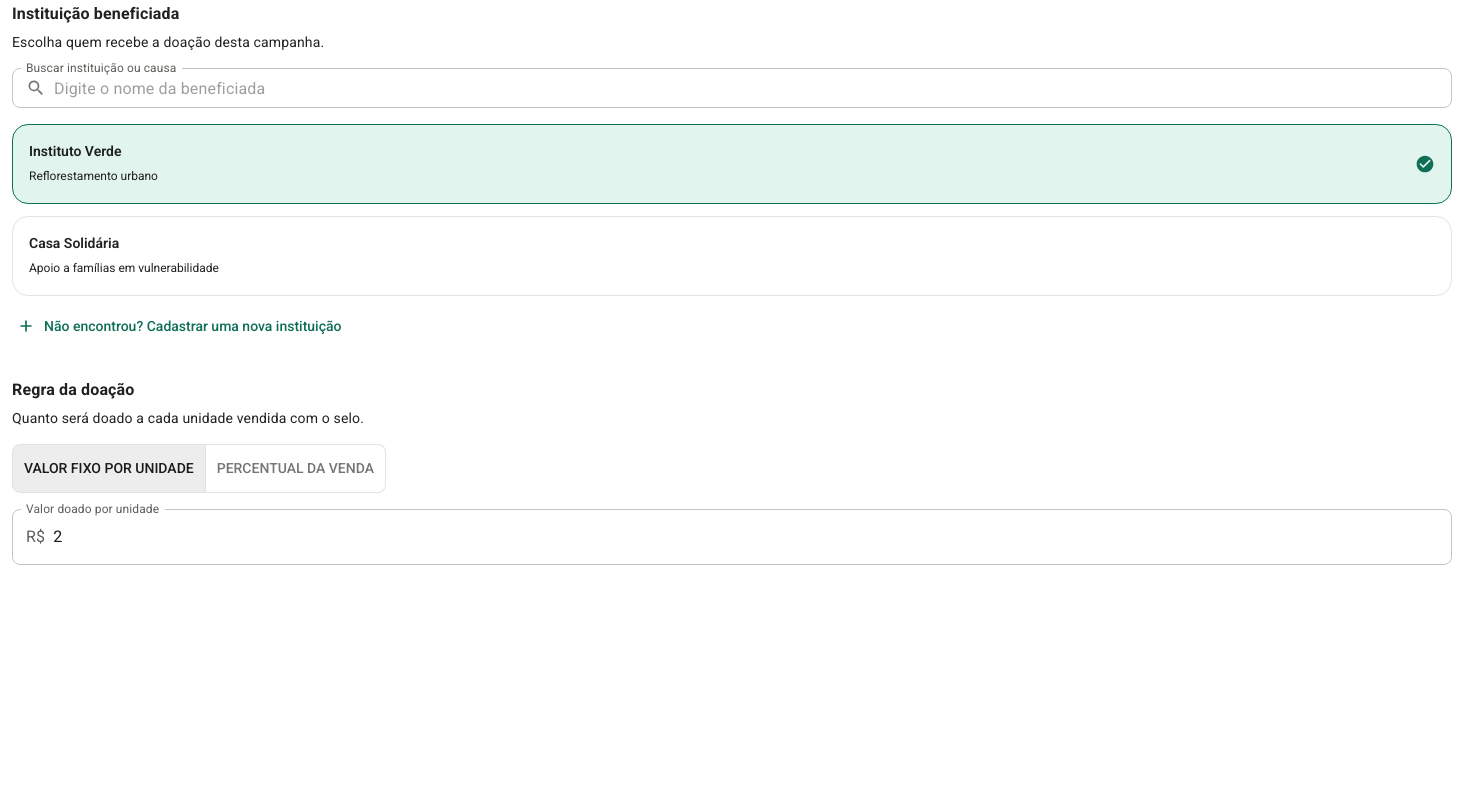
it: StepCausaRegra — mensagem de pré-cadastro indisponível (Task 7.4) › acionar o pré-cadastro mostra a mensagem de indisponibilidade e preserva a seleção (Req 8.2, 8.3)
// Abre o formulário de pré-cadastro.
Click the button "Não encontrou? Cadastrar uma nova instituição": (181, 326) [12, 308, 350, 344]
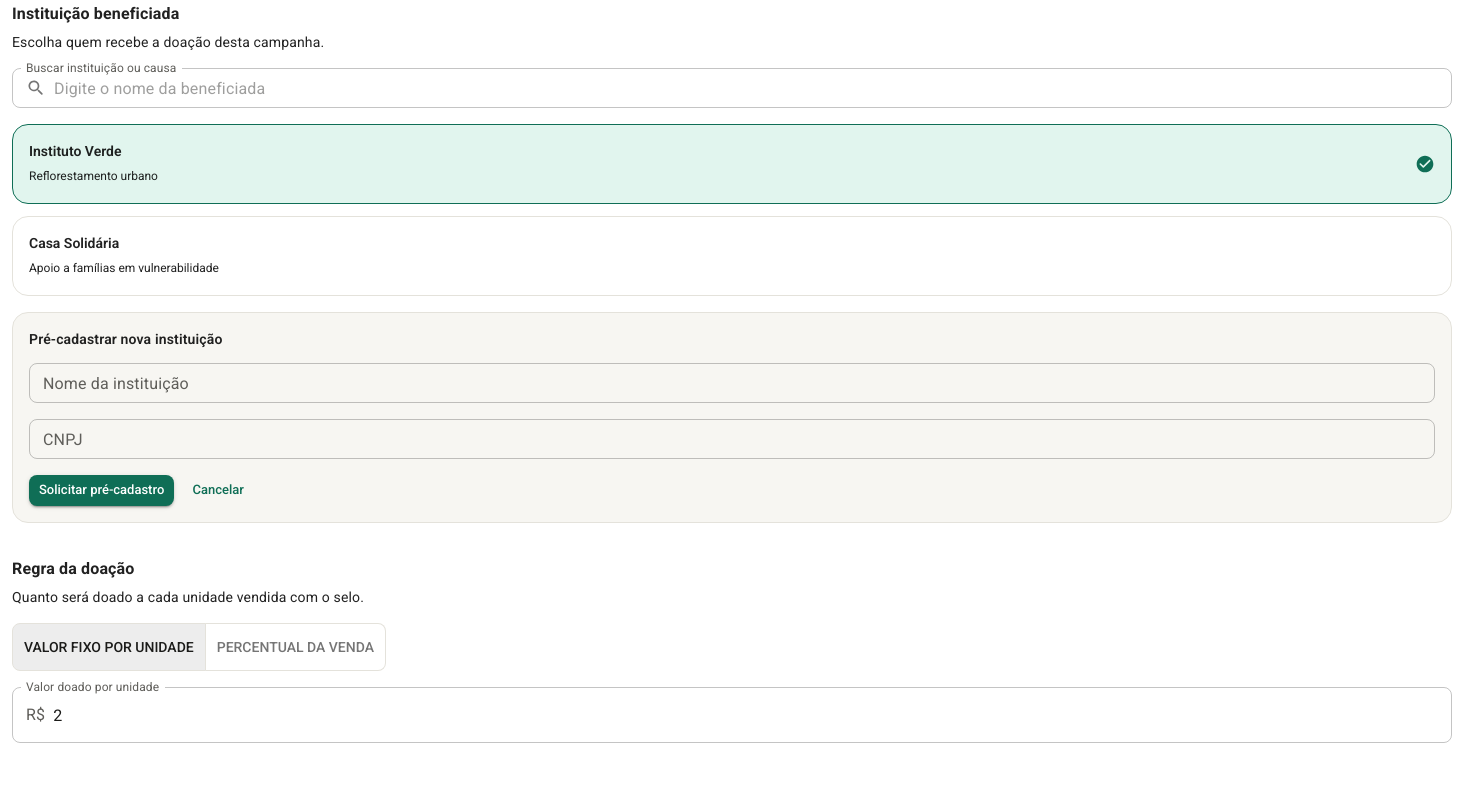
// Aciona a afordância de pré-cadastro.
Click the button "Solicitar pré-cadastro": (102, 490) [29, 475, 174, 506]
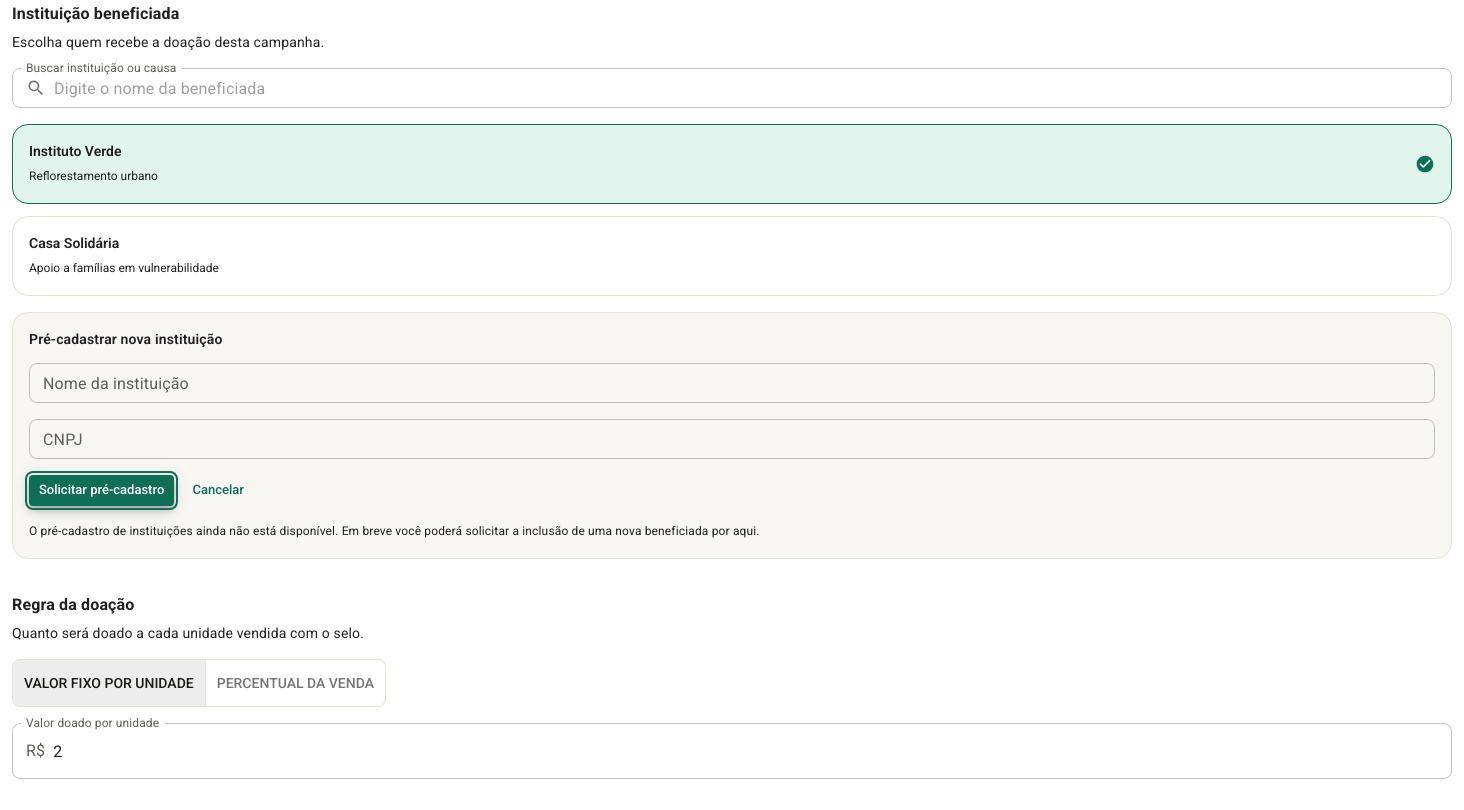
Result: the message with test id "pre-cadastro-indisponivel" shows "ainda não está disponível" at [29, 524, 760, 538]
